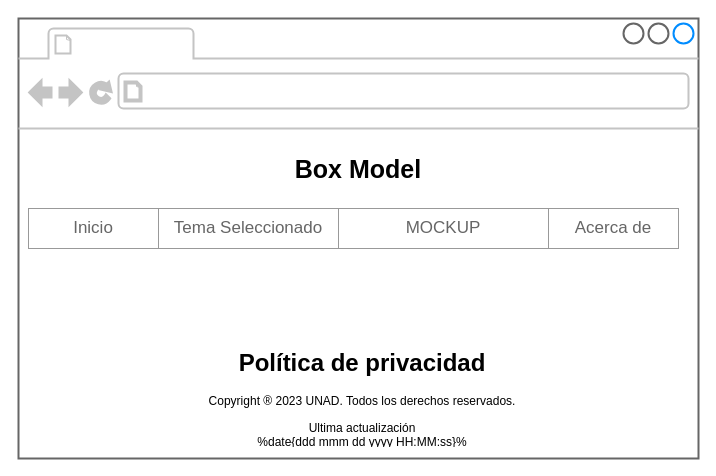
Some shapes in this 716 by 476 pixel diagram are drawn without their labels. The centre of each missing label's shape, as x and y in pixels:
https://www.draw.io: point 273,91
Page 1: point 133,43
